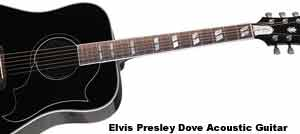guitar: (1, 3, 299, 134)
